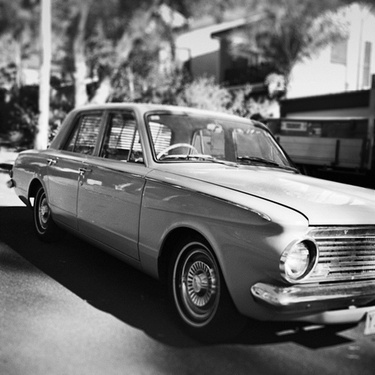car: (8, 89, 373, 344)
